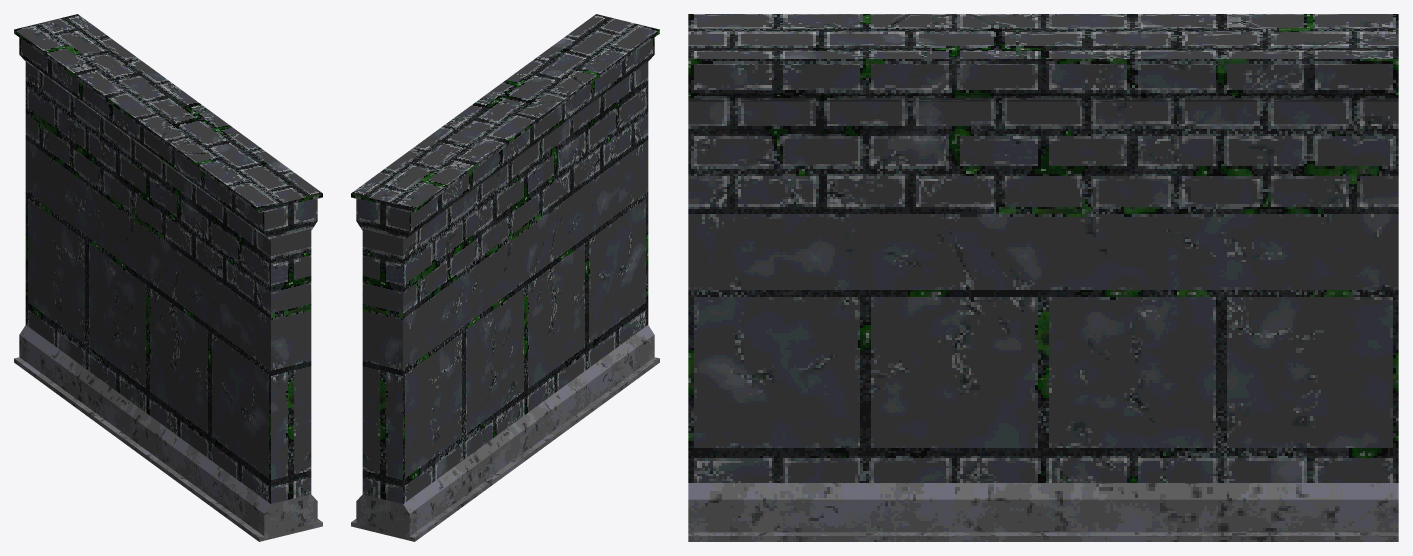
Rendered from wall_4x3_02.gltf.
The picture shows the model from 3 angles, left to right: view 1: azimuth 30°, elevation 25°; view 2: azimuth 150°, elevation 25°; view 3: azimuth 270°, elevation 25°; orthographic projection. The views are drawn at different scales.
Parts seen in each view (by area): view 1: wall_4x3_02; view 2: wall_4x3_02; view 3: wall_4x3_02.
Boxes of the visible parts, bbox=[...] form: wall_4x3_02: bbox=[14, 14, 322, 541]; wall_4x3_02: bbox=[351, 14, 659, 541]; wall_4x3_02: bbox=[688, 14, 1398, 541].
Bounding box in the file's own units: 0.6 × 3 × 4.
Materials: 1 (1 with a texture image).
